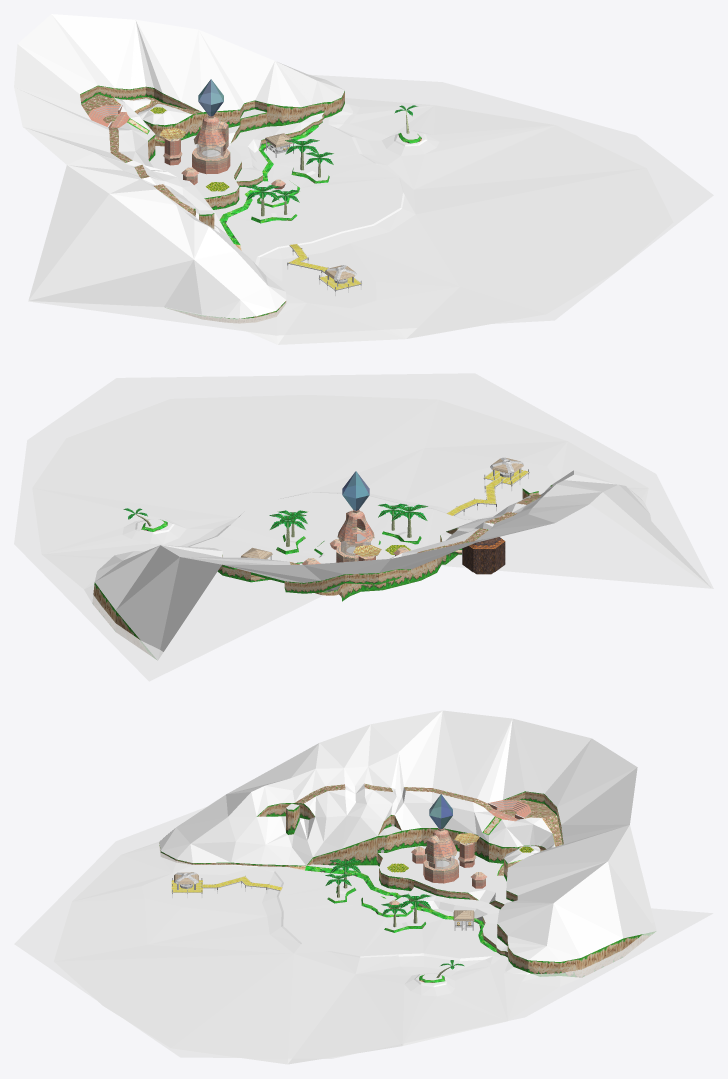
The model's file is GBeach_Final_v2.obj.
3 views of the same model, one above another, from view 1: azimuth 30°, elevation 25°; view 2: azimuth 150°, elevation 25°; view 3: azimuth 270°, elevation 25° (orthographic). The views are drawn at different scales.
Parts seen in each view (by area): view 1: Mesh_mamma0_DS_Low_Poly_Textured; view 2: Mesh_mamma0_DS_Low_Poly_Textured, Mesh.001_mamma0_DS_Low_Poly_Textured.001; view 3: Mesh_mamma0_DS_Low_Poly_Textured.
Boxes of the visible parts, x1=… form: Mesh_mamma0_DS_Low_Poly_Textured: x1=14, y1=14, x2=713, y2=344; Mesh_mamma0_DS_Low_Poly_Textured: x1=14, y1=373, x2=713, y2=681; Mesh.001_mamma0_DS_Low_Poly_Textured.001: x1=449, y1=537, x2=505, y2=574; Mesh_mamma0_DS_Low_Poly_Textured: x1=14, y1=710, x2=713, y2=1064.
Bounding box in the file's own units: 12.97 × 2.37 × 13.38.
